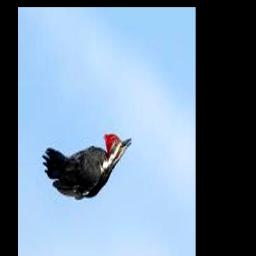Woodpecker: (41, 133, 131, 198)
